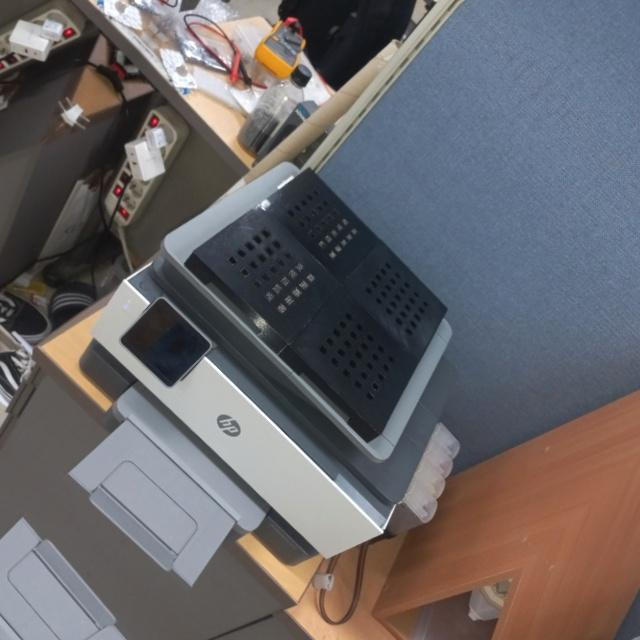pallet: (179, 144, 482, 450)
